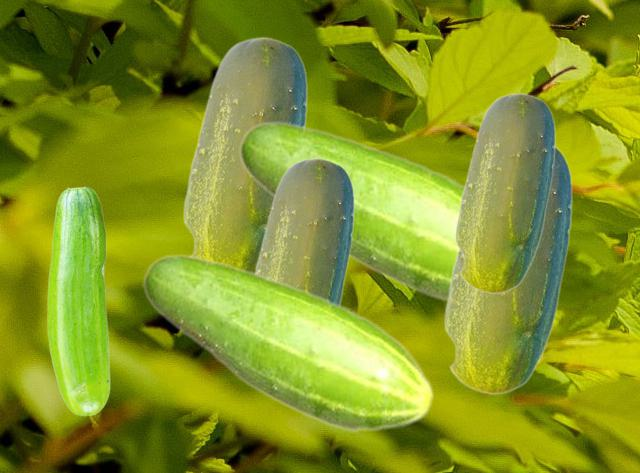cucumber: (142, 253, 434, 433), (238, 120, 463, 304), (443, 145, 571, 394), (182, 36, 306, 270), (454, 92, 554, 293), (254, 157, 353, 303), (47, 186, 109, 415)
